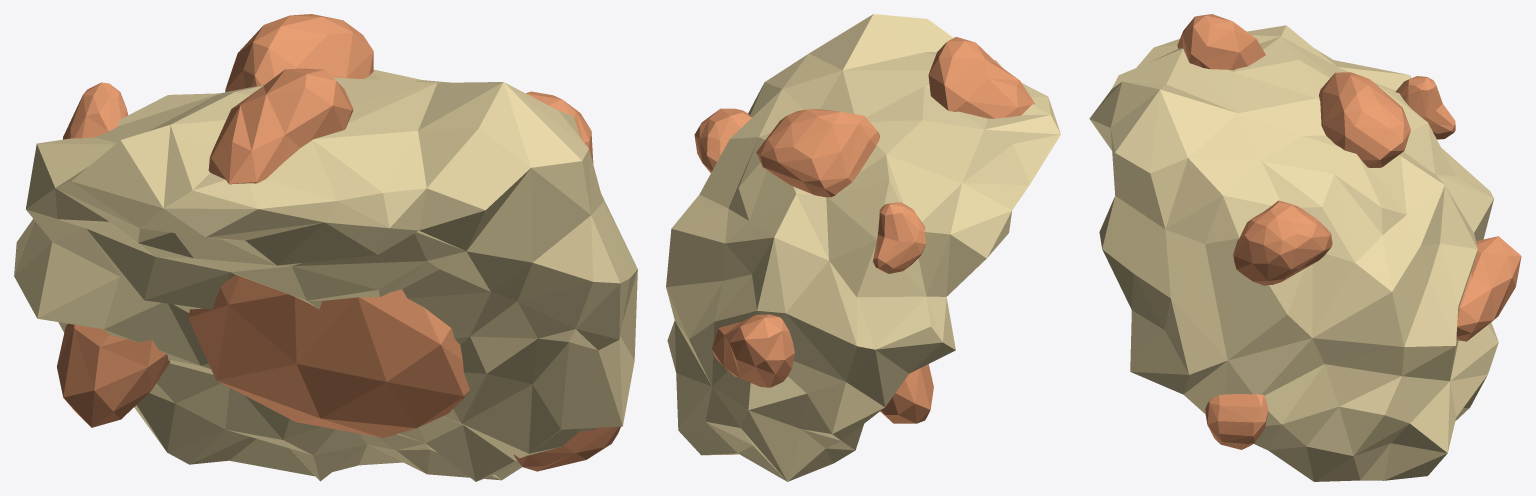
File: StoneOre (38).fbx
3 renders of one model, left to right at view 1: azimuth 30°, elevation 25°; view 2: azimuth 150°, elevation 25°; view 3: azimuth 270°, elevation 25°, orthographic. The views are drawn at different scales.
Visible parts, largest first — view 1: Asteroid325; view 2: Asteroid325; view 3: Asteroid325.
Part boxes in pixels (x1,y1,x2,y2): Asteroid325: (14,14,637,481); Asteroid325: (666,14,1060,481); Asteroid325: (1089,14,1521,481).
Bounding box in the file's own units: 545 × 568 × 579.
